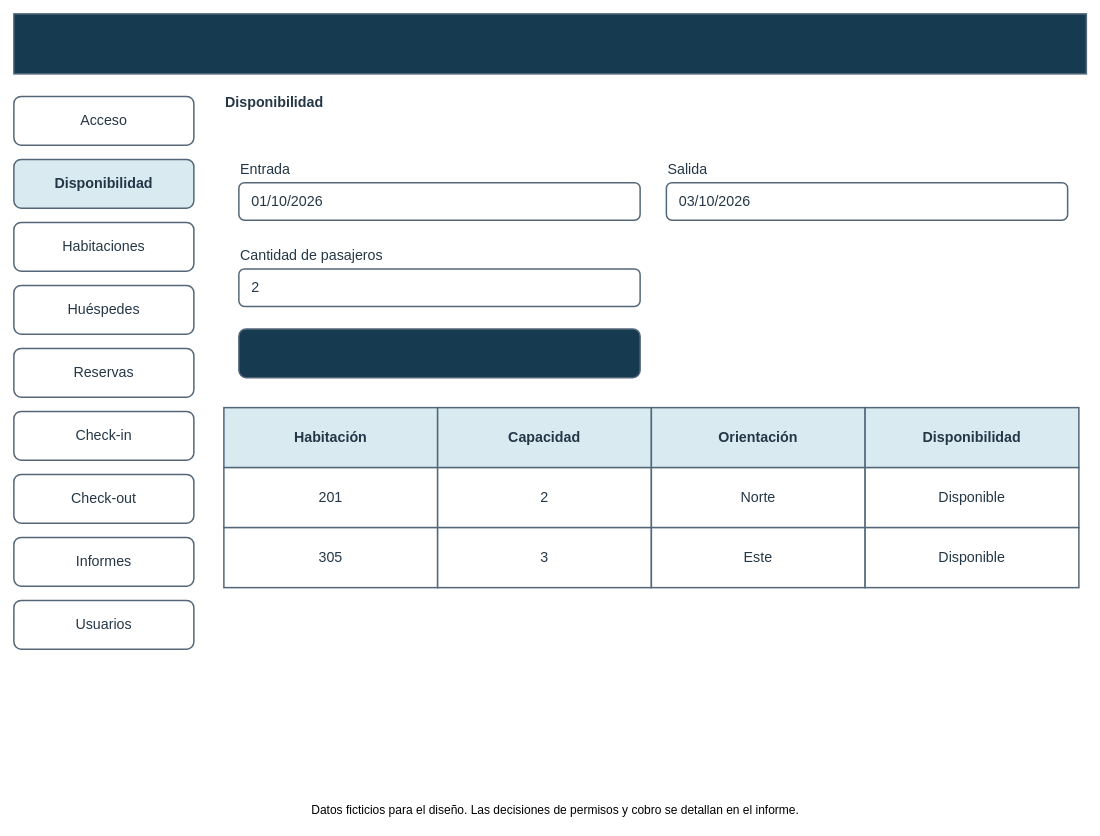
The diagram is 1100 pixels wide and 836 high, and some of its shapes have lost their labels. Each missing label, with the centre of its shape:
Consultar disponibilidad: point 439,353
Hotel Duerme Bien · Sistema de pasajeros: point 550,43
